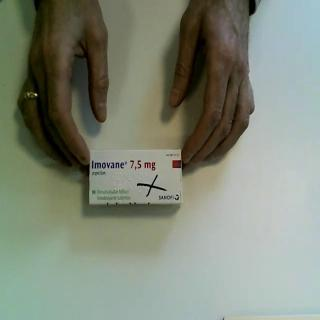imovane7-5mg: (88, 148, 185, 208)
